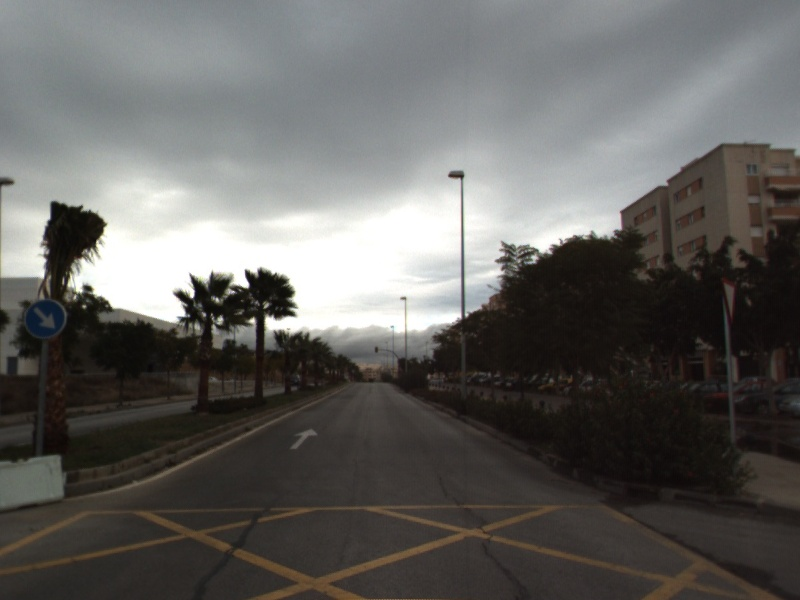STRAIGHT: (288, 426, 320, 451)
